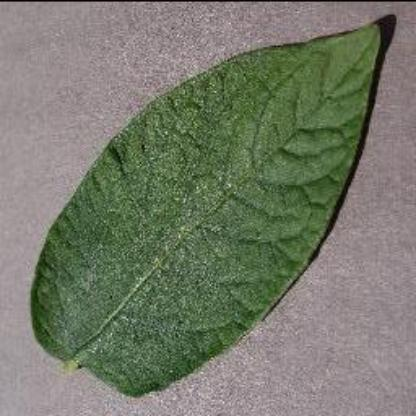Healthy-plant: (29, 14, 393, 398)
